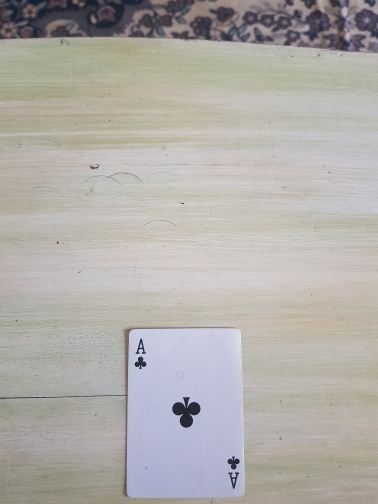ace: (125, 328, 247, 499)
